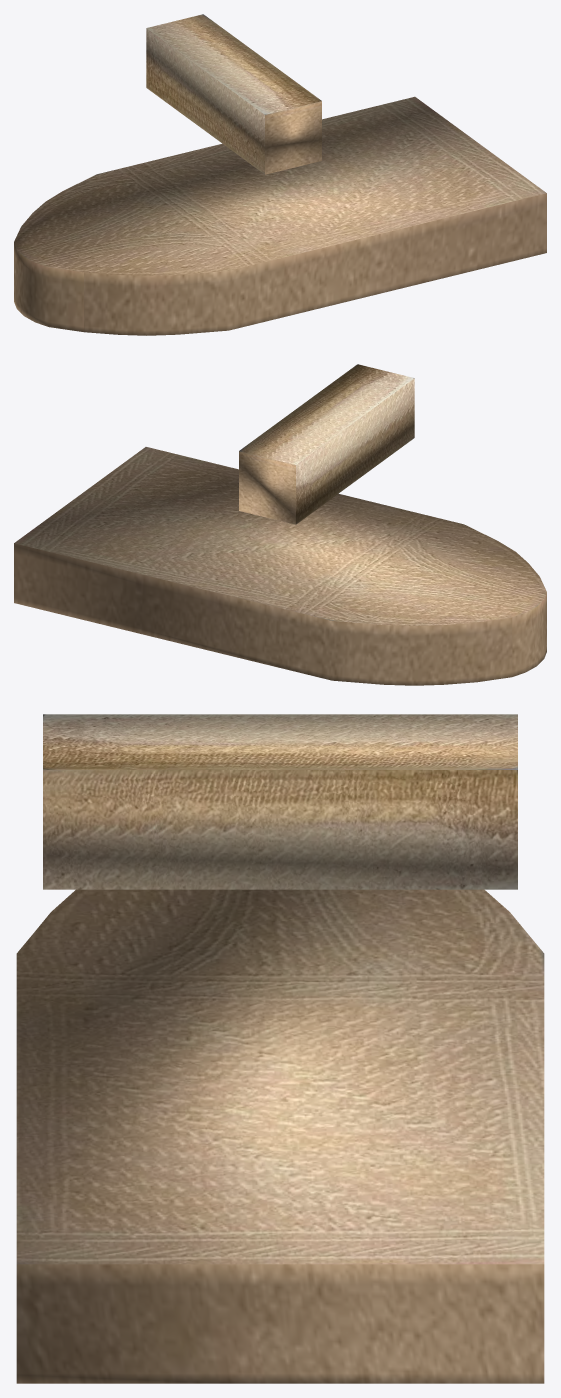
File: pata.glb
3 views of the same model, one above another, from view 1: azimuth 30°, elevation 25°; view 2: azimuth 150°, elevation 25°; view 3: azimuth 270°, elevation 25° (orthographic). The views are drawn at different scales.
Parts seen in each view (by area): view 1: Sphere, Cube; view 2: Sphere, Cube; view 3: Sphere, Cube.
Boxes of the visible parts, x1,y1,x2,y2 form: Sphere: (14, 96, 546, 335); Cube: (146, 14, 321, 174); Sphere: (14, 447, 546, 685); Cube: (239, 364, 414, 524); Sphere: (16, 889, 544, 1383); Cube: (43, 714, 517, 889).
Size of the model in its own units: 0.4 by 0.1676 by 0.2.
Materials: 1 (1 with a texture image).
